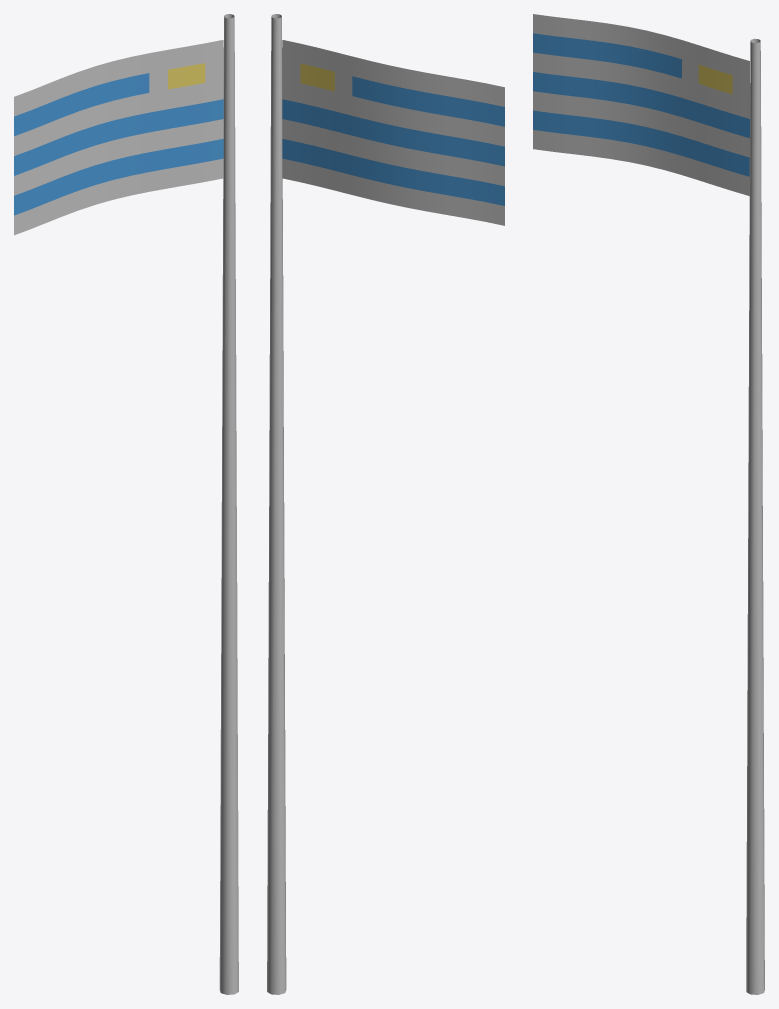
The model's file is flagpole.glb.
The picture shows the model from 3 angles, left to right: view 1: azimuth 30°, elevation 25°; view 2: azimuth 150°, elevation 25°; view 3: azimuth 330°, elevation 25°; orthographic projection. The views are drawn at different scales.
Parts seen in each view (by area): view 1: flagpole; view 2: flagpole; view 3: flagpole.
Part boxes in pixels (x1=…): flagpole: x1=14, y1=14, x2=238, y2=994; flagpole: x1=267, y1=14, x2=504, y2=994; flagpole: x1=533, y1=14, x2=764, y2=994.
Size of the model in its own units: 2.4 by 9.7 by 0.2073.
